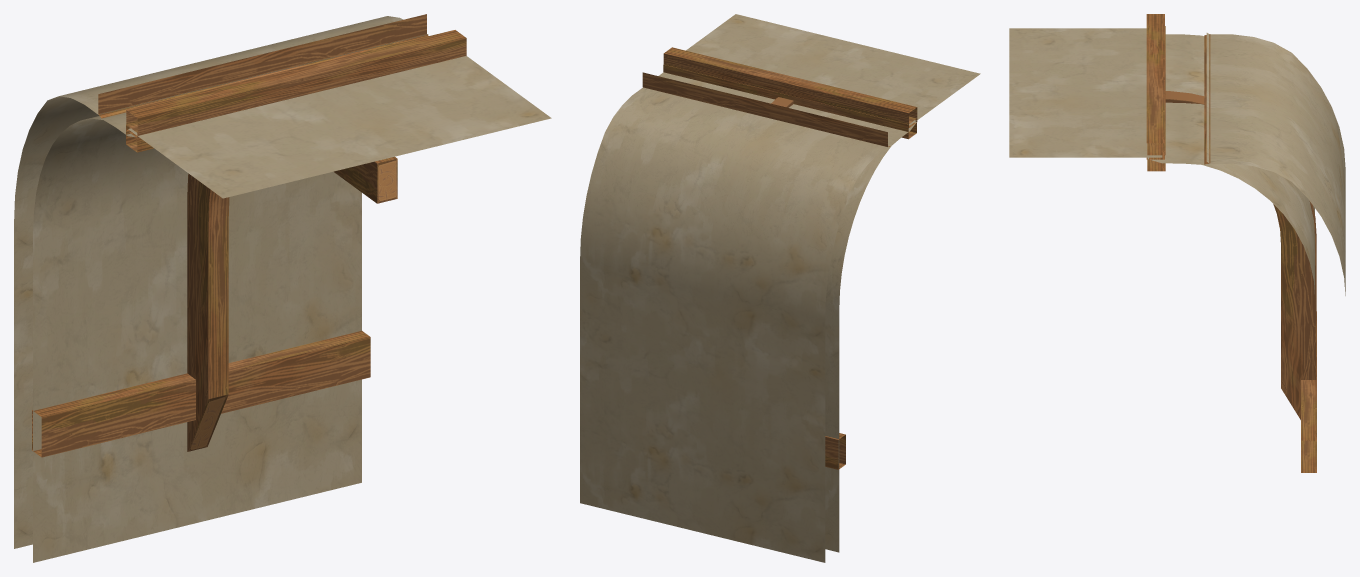
The model's file is Overhang_Plaster_Long.gltf.
3 renders of one model, left to right at view 1: azimuth 30°, elevation 25°; view 2: azimuth 150°, elevation 25°; view 3: azimuth 270°, elevation 25°, orthographic. The views are drawn at different scales.
Visible parts, largest first — view 1: Overhang_Plaster_Long; view 2: Overhang_Plaster_Long; view 3: Overhang_Plaster_Long.
Part boxes in pixels (bbox=[...]): Overhang_Plaster_Long: bbox=[14, 14, 551, 562]; Overhang_Plaster_Long: bbox=[580, 14, 980, 562]; Overhang_Plaster_Long: bbox=[1009, 14, 1345, 472].
Size of the model in its own units: 2 by 3.03 by 2.2.
Materials: 2 (2 with a texture image).
